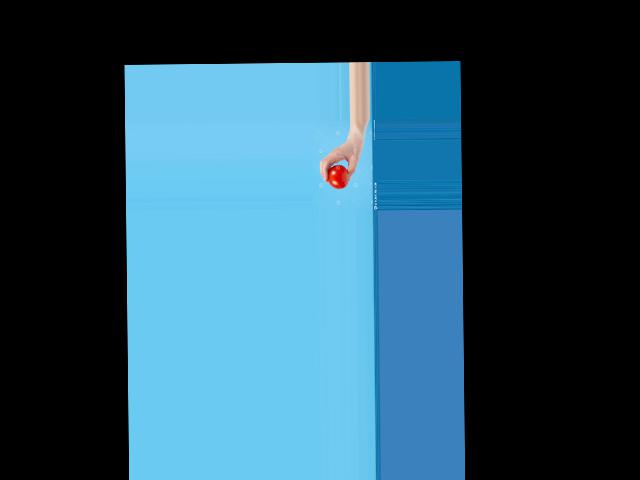tomato: (327, 164, 348, 188)
